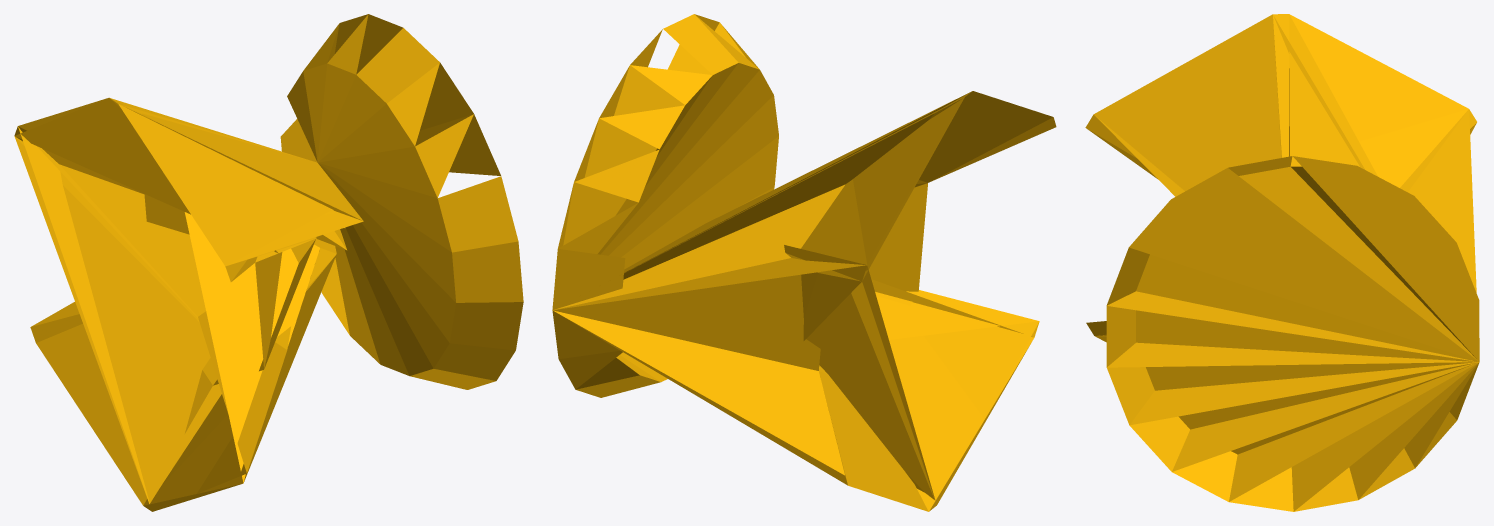
The model's file is S.S._Dolphin_Ionium_Jet_1.obj.
The picture shows the model from 3 angles, left to right: view 1: azimuth 30°, elevation 25°; view 2: azimuth 150°, elevation 25°; view 3: azimuth 270°, elevation 25°; orthographic projection. The views are drawn at different scales.
Parts seen in each view (by area): view 1: S.S._Dolphin_Ionium_Jet_1; view 2: S.S._Dolphin_Ionium_Jet_1; view 3: S.S._Dolphin_Ionium_Jet_1.
Boxes of the visible parts, x1=… form: S.S._Dolphin_Ionium_Jet_1: x1=14, y1=14, x2=523, y2=511; S.S._Dolphin_Ionium_Jet_1: x1=552, y1=14, x2=1056, y2=511; S.S._Dolphin_Ionium_Jet_1: x1=1085, y1=14, x2=1479, y2=511.
Bounding box in the file's own units: 1.53 × 1.86 × 1.66.
